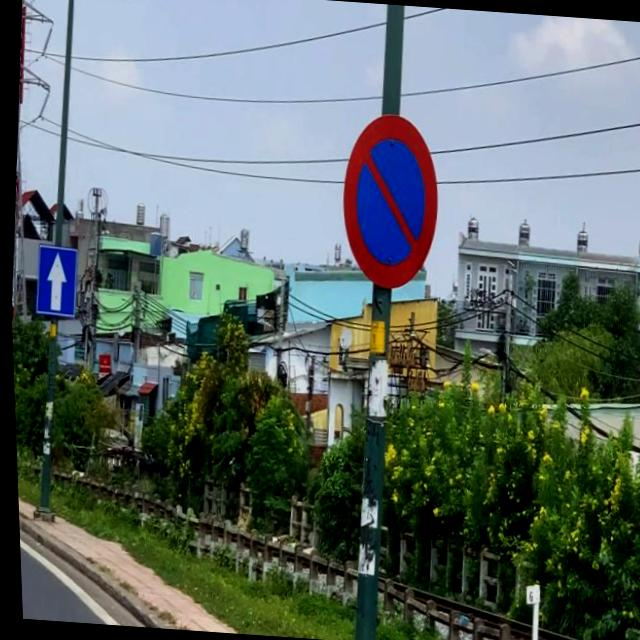Cam do xe: (332, 110, 445, 294)
Duong mot chieu: (30, 242, 78, 320)
